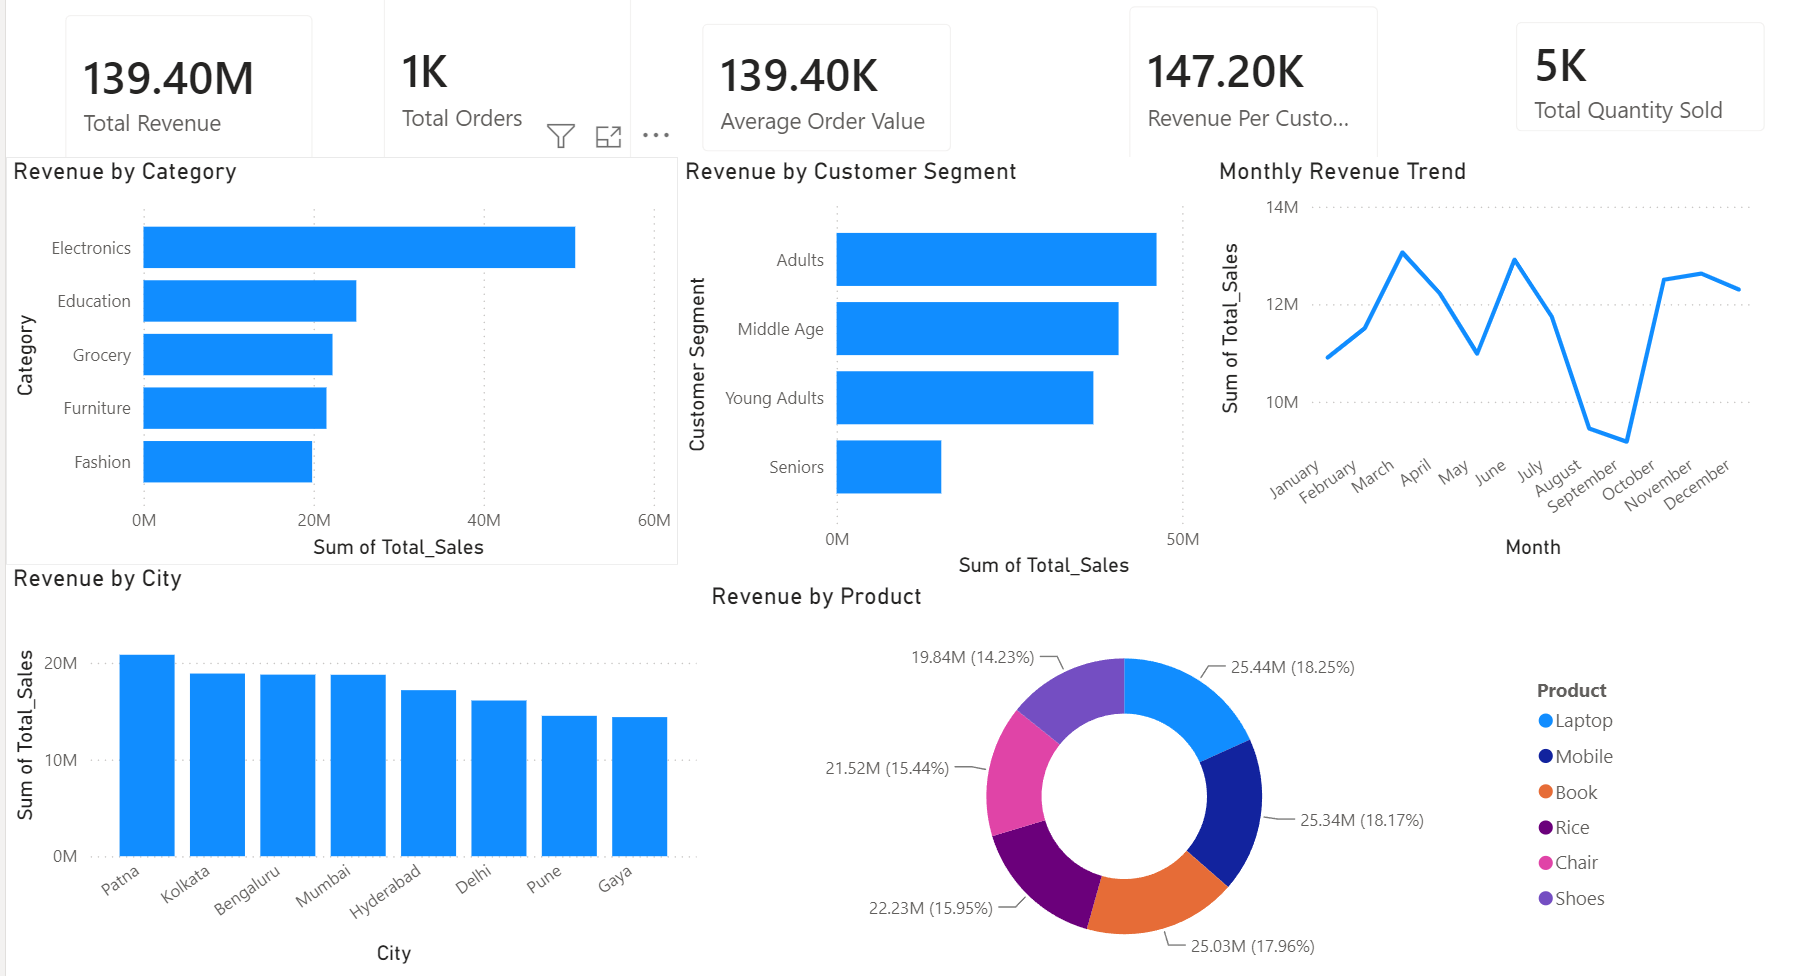

Layout of this report page (visuals, bound fields, positions):
{"tool":"powerbi","page":{"name":"Page 1","canvas":[1280,720],"ordinal":0},"visuals":[{"type":"cardVisual","title":"Revenue by Category","fields":{"Data":["Cleaned_Sales_Dataset.Total Revenue"]},"box":[24.3,15.7,210,141.4],"z":0},{"type":"cardVisual","fields":{"Data":["Cleaned_Sales_Dataset.Total Orders"]},"box":[251.4,0,210,164.3],"z":1000},{"type":"cardVisual","fields":{"Data":["Cleaned_Sales_Dataset.Average Order Value"]},"box":[477.1,22.9,211.4,125.7],"z":2000},{"type":"cardVisual","fields":{"Data":["Cleaned_Sales_Dataset.Revenue Per Customer"]},"box":[781.4,10,211.4,145.7],"z":3000},{"type":"cardVisual","fields":{"Data":["Cleaned_Sales_Dataset.Total Quantity Sold"]},"box":[1055.7,21.4,211.4,112.9],"z":4000},{"type":"clusteredBarChart","title":"Revenue by Category","fields":{"Category":["Cleaned_Sales_Dataset.Category"],"Y":["Sum(Cleaned_Sales_Dataset.Total_Sales)"]},"box":[0,134.3,477.1,290],"z":5000},{"type":"clusteredColumnChart","title":"Revenue by City","fields":{"Category":["Cleaned_Sales_Dataset.City"],"Y":["Sum(Cleaned_Sales_Dataset.Total_Sales)"]},"box":[0,424.3,495.7,288.6],"z":6000},{"type":"clusteredBarChart","title":"Revenue by Customer Segment","fields":{"Y":["Sum(Cleaned_Sales_Dataset.Total_Sales)"],"Category":["Cleaned_Sales_Dataset.Customer Segment"]},"box":[477.1,134.3,424.3,302.9],"z":7000},{"type":"donutChart","title":"Revenue by Product","fields":{"Category":["Cleaned_Sales_Dataset.Product"],"Y":["Sum(Cleaned_Sales_Dataset.Total_Sales)"]},"box":[495.7,437.1,665.7,282.9],"z":8000},{"type":"lineChart","title":" Monthly Revenue Trend","fields":{"Category":["Cleaned_Sales_Dataset.Order_Date.Variation.Date Hierarchy.Month","Cleaned_Sales_Dataset.Order_Date.Variation.Date Hierarchy.Day"],"Y":["Sum(Cleaned_Sales_Dataset.Total_Sales)"]},"box":[857.1,134.3,390,290],"z":9000}]}

Visuals, with their boxes on the page's 1280x720 design canvas (x1, y1, x2, y2). These are canvas units, not pixel positions in the 1802x976 screenshot, which may show the page scaled, cropped or inside an application window:
"Revenue by Category" cardVisual: (24, 16, 234, 157)
cardVisual - Cleaned_Sales_Dataset.Total Orders: (251, 0, 461, 164)
cardVisual - Cleaned_Sales_Dataset.Average Order Value: (477, 23, 688, 149)
cardVisual - Cleaned_Sales_Dataset.Revenue Per Customer: (781, 10, 993, 156)
cardVisual - Cleaned_Sales_Dataset.Total Quantity Sold: (1056, 21, 1267, 134)
"Revenue by Category" clusteredBarChart: (0, 134, 477, 424)
"Revenue by City" clusteredColumnChart: (0, 424, 496, 713)
"Revenue by Customer Segment" clusteredBarChart: (477, 134, 901, 437)
"Revenue by Product" donutChart: (496, 437, 1161, 720)
" Monthly Revenue Trend" lineChart: (857, 134, 1247, 424)
